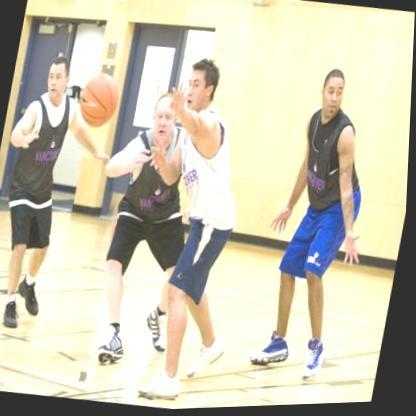basketball: (77, 71, 124, 130)
